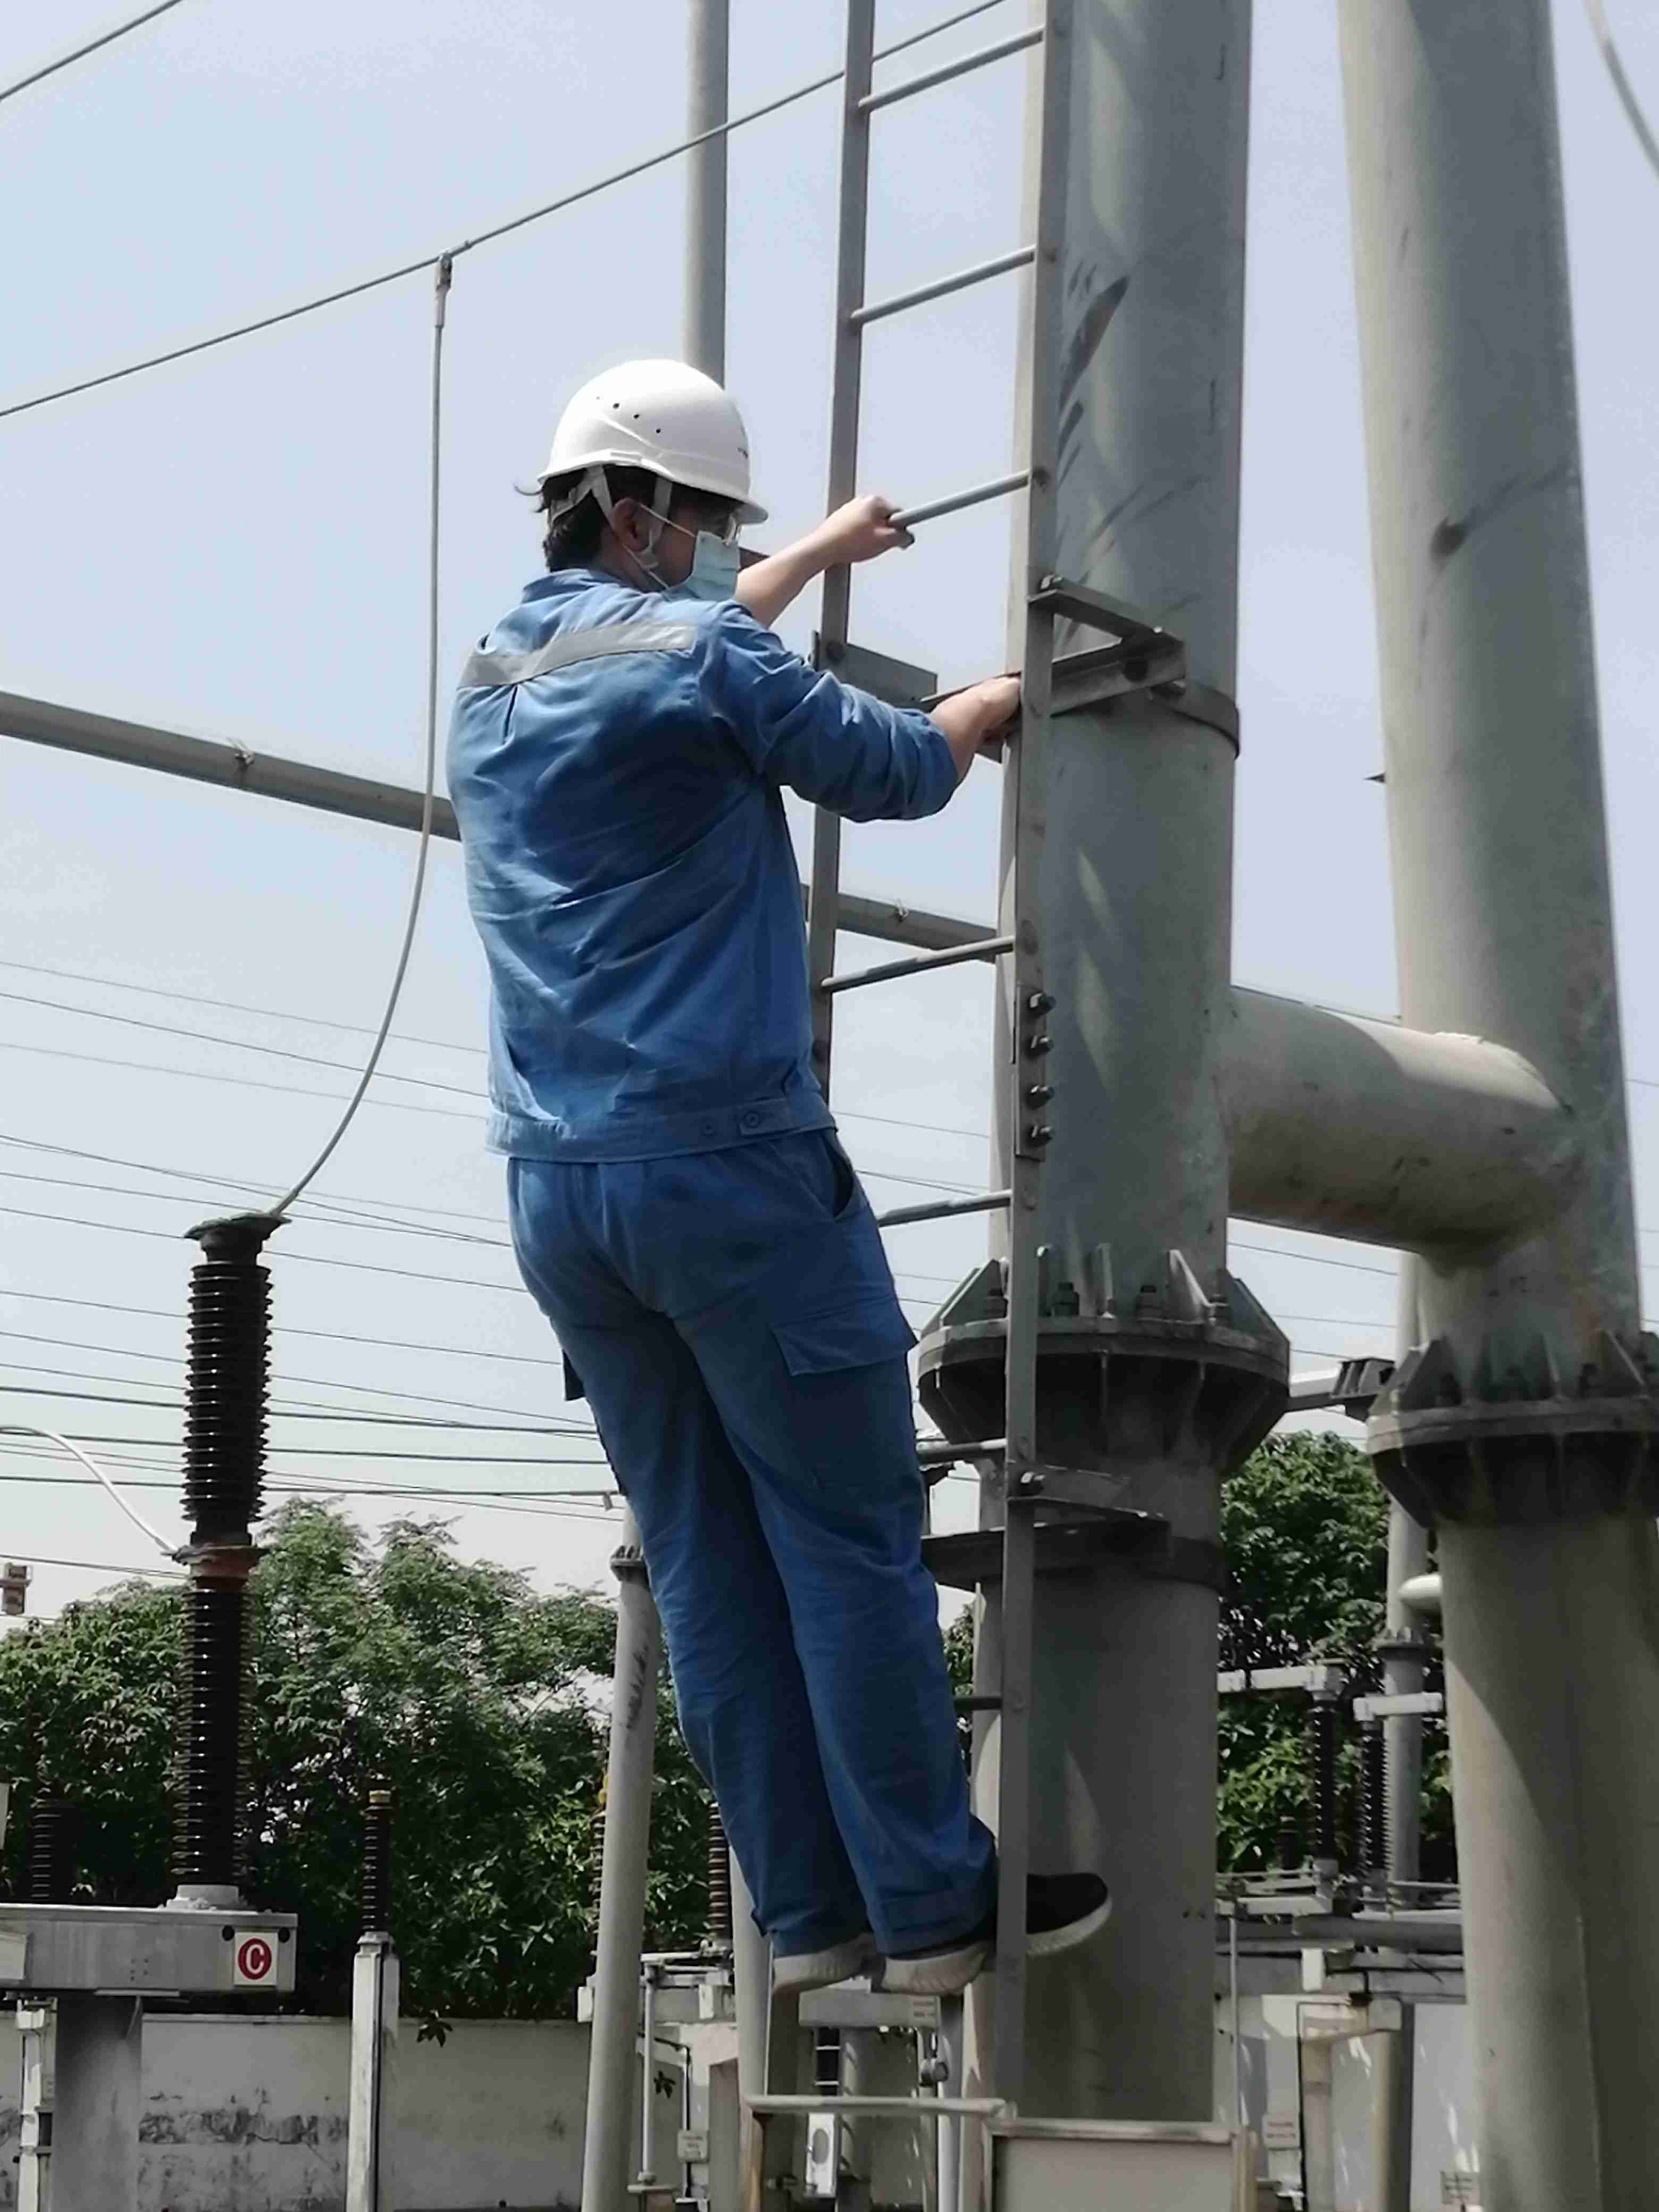downsuit: (500, 1174, 985, 1918)
upsuit: (437, 568, 988, 1151)
wrongtop: (730, 496, 915, 636), (911, 669, 1019, 784)
